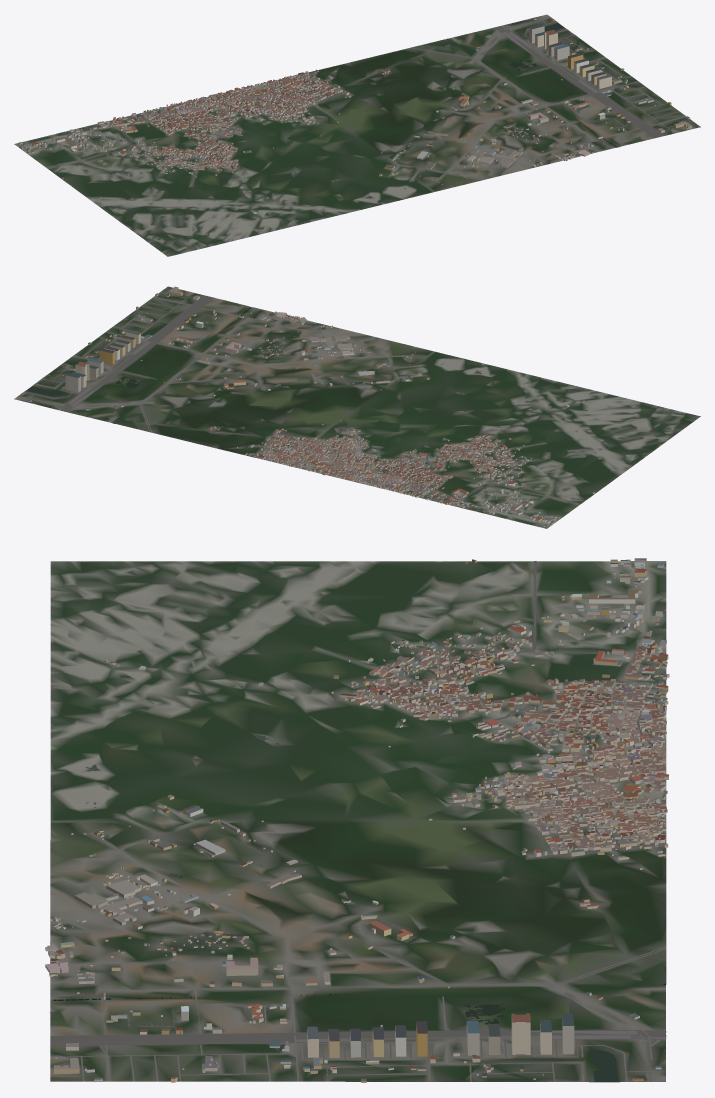
The picture shows the model from 3 angles, top to bottom: view 1: azimuth 30°, elevation 25°; view 2: azimuth 150°, elevation 25°; view 3: azimuth 270°, elevation 25°; orthographic projection. The views are drawn at different scales.
Parts seen in each view (by area): view 1: ground, buildings, roads; view 2: ground, buildings, roads, water; view 3: ground, buildings, roads, water.
Part boxes in pixels (<box>): ground: <box>14,14,700,256</box>; buildings: <box>18,17,691,221</box>; roads: <box>47,16,694,168</box>; ground: <box>14,286,700,528</box>; buildings: <box>20,286,595,527</box>; roads: <box>17,288,579,504</box>; water: <box>26,307,481,423</box>; ground: <box>50,561,666,1082</box>; buildings: <box>45,558,669,1082</box>; roads: <box>50,561,666,1081</box>; water: <box>53,735,666,1081</box>.
Size of the model in its own units: 2808 by 85.54 by 1422.
